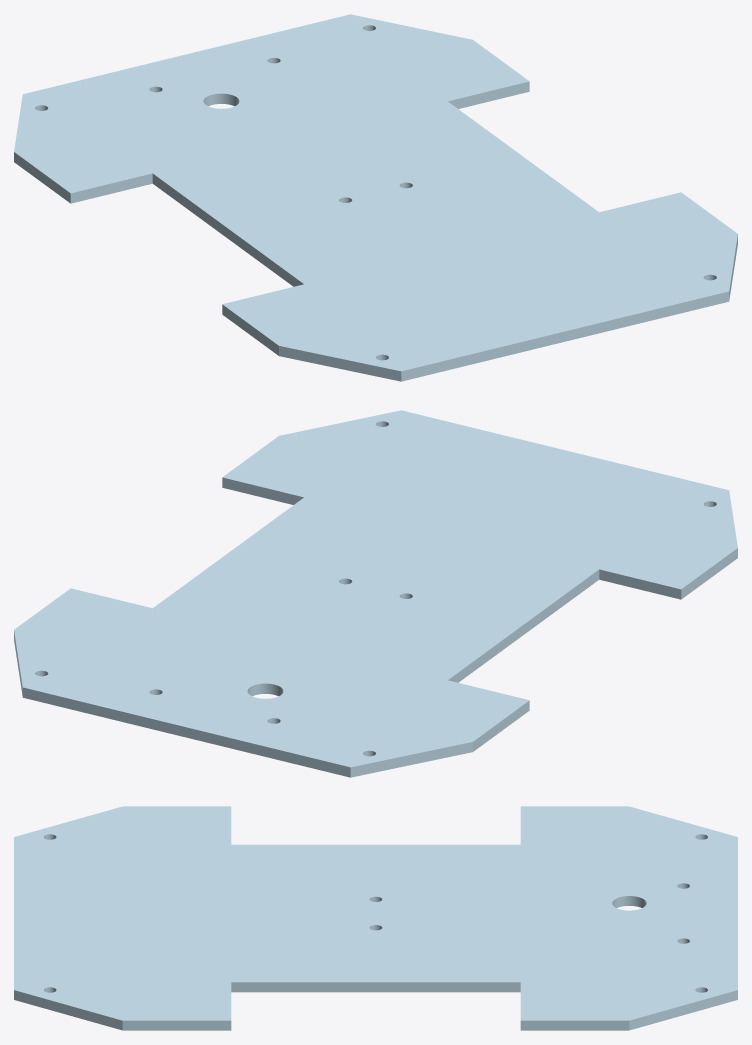
File: Baseauto.glb
3 views of the same model, one above another, from view 1: azimuth 30°, elevation 25°; view 2: azimuth 150°, elevation 25°; view 3: azimuth 270°, elevation 25° (orthographic). The views are drawn at different scales.
Parts seen in each view (by area): view 1: Part 1; view 2: Part 1; view 3: Part 1.
Boxes of the visible parts, x1=… form: Part 1: x1=14, y1=14, x2=737, y2=381; Part 1: x1=14, y1=410, x2=737, y2=777; Part 1: x1=14, y1=806, x2=737, y2=1030.
Size of the model in its own units: 0.14 by 0.003 by 0.2.
